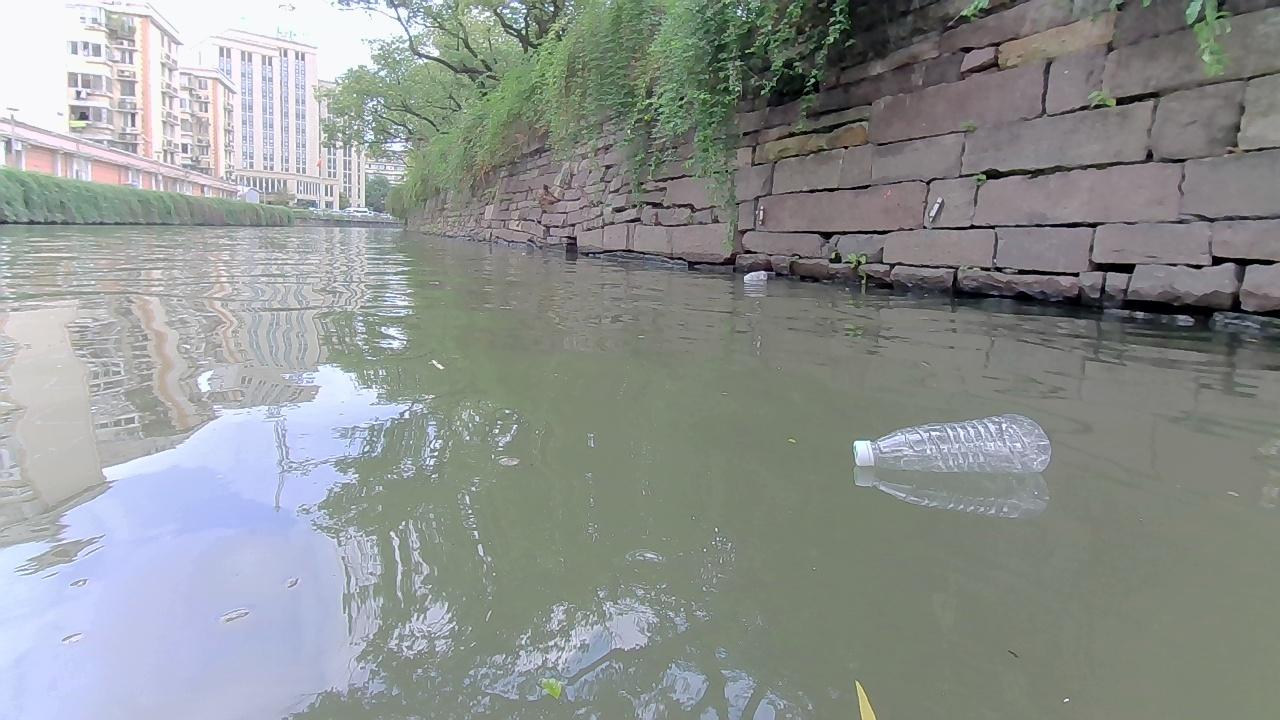bottle: (852, 412, 1050, 473), (742, 269, 767, 281)
